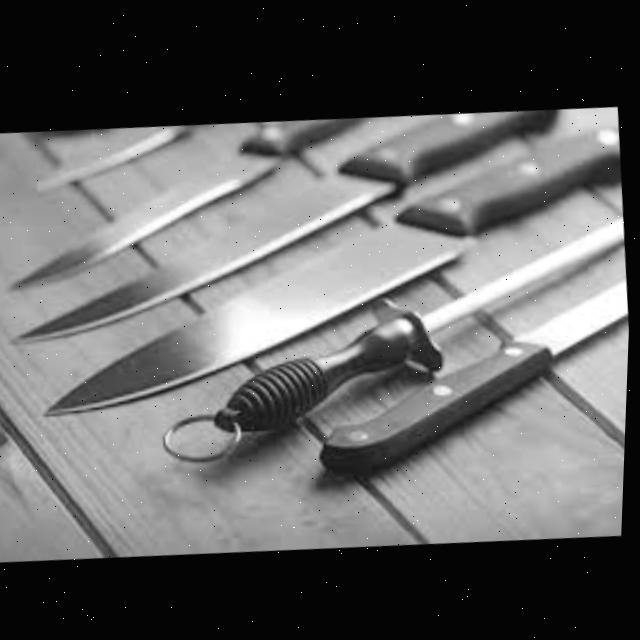Knife: (24, 97, 637, 436), (202, 190, 635, 453), (3, 151, 413, 356), (0, 100, 398, 302), (307, 252, 633, 482), (32, 111, 270, 201)
